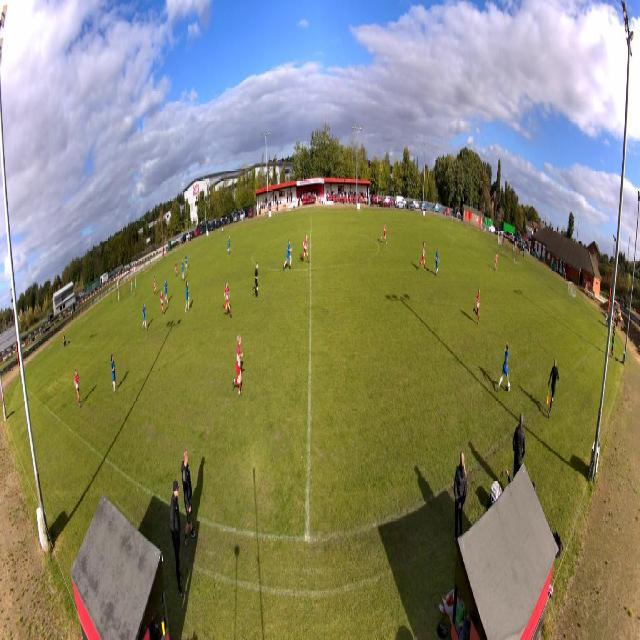ball: (508, 381, 511, 390)
player: (497, 342, 512, 392), (233, 336, 244, 396), (222, 281, 233, 318), (300, 233, 311, 264), (283, 238, 292, 272), (473, 288, 481, 325), (418, 240, 427, 272), (252, 262, 259, 301), (74, 369, 81, 408), (111, 355, 117, 395), (185, 281, 190, 312), (381, 222, 388, 244), (142, 301, 147, 330), (164, 278, 169, 305), (435, 246, 439, 276), (160, 291, 164, 318), (495, 251, 499, 271), (227, 235, 231, 254), (182, 258, 185, 282), (154, 276, 157, 297), (131, 281, 134, 299), (185, 253, 187, 270), (175, 261, 177, 278)
